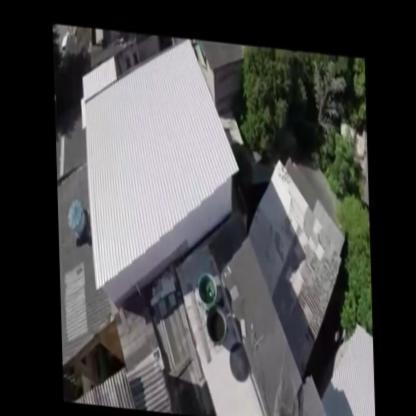agua: (204, 302, 226, 348), (196, 268, 220, 309)
